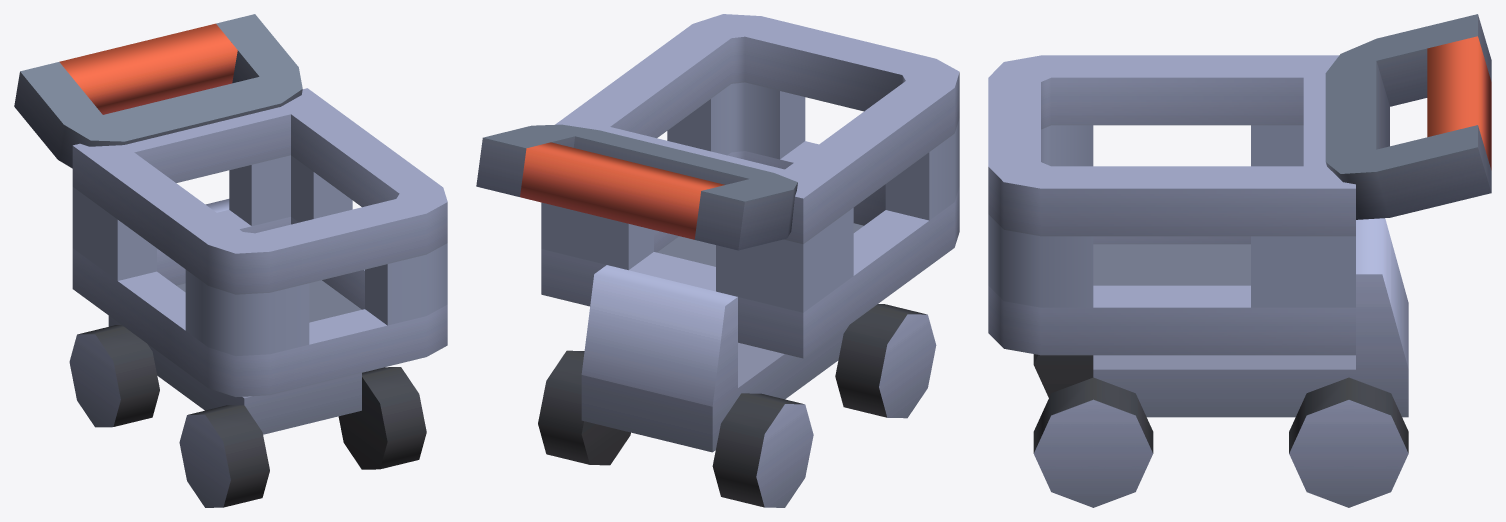
Rendered from k-mini-market-shopping-cart.glb.
3 renders of one model, left to right at view 1: azimuth 30°, elevation 25°; view 2: azimuth 150°, elevation 25°; view 3: azimuth 270°, elevation 25°, orthographic. The views are drawn at different scales.
Parts seen in each view (by area): view 1: shopping-cart; view 2: shopping-cart; view 3: shopping-cart.
Part boxes in pixels (x1=…): shopping-cart: x1=14, y1=14, x2=447, y2=507; shopping-cart: x1=476, y1=14, x2=959, y2=507; shopping-cart: x1=988, y1=14, x2=1491, y2=507.
Size of the model in its own units: 0.3 by 0.3906 by 0.4789.
Materials: 1 (1 with a texture image).
